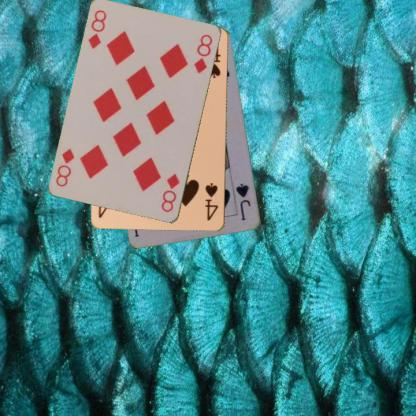4s: (202, 181, 219, 222)
8d: (159, 171, 181, 214), (86, 8, 108, 50)
Js: (233, 181, 252, 222)
